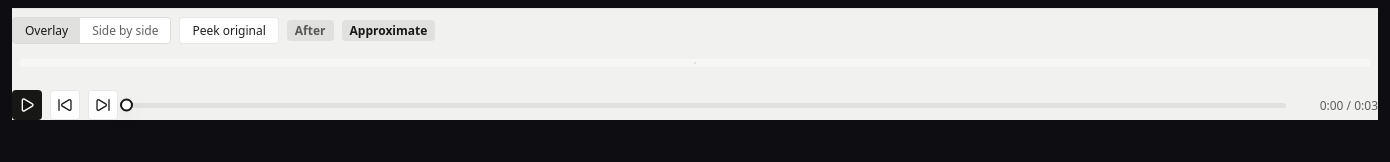
Test case: AiReviewPlayer › side-by-side layout (H1.5/J3) › switches from hold-to-compare to side-by-side via the layout toggle
Expected: the button "Peek original" is shown, [180,17,279,44]
Click the button "Side by side". click: (125,30)
box: [80,18,170,43]
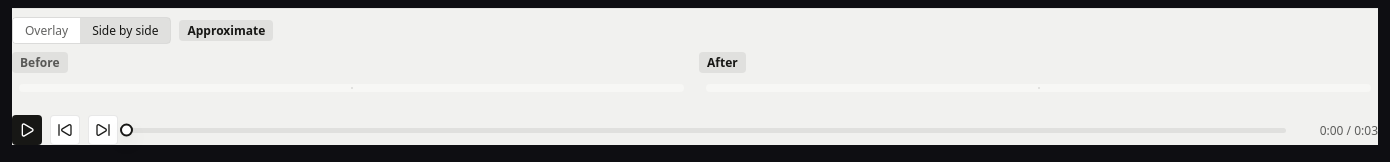
Expected: the text "After" is shown, [699,52,746,73]
Now the button "Peek original" is gone
Now the text "Before" is shown, box [12,52,68,73]
Click the button "Overlay". click: (47,30)
box: [13,18,80,43]
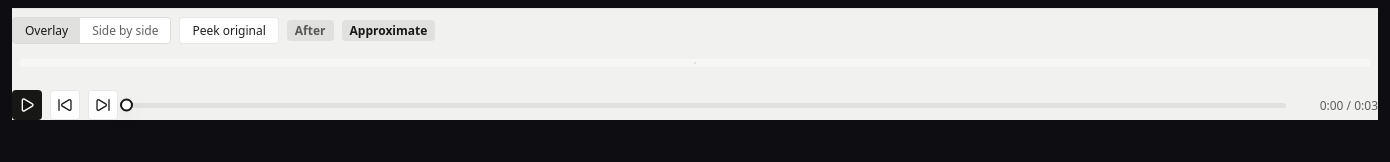
Now the button "Peek original" is shown, box [180,17,279,44]
